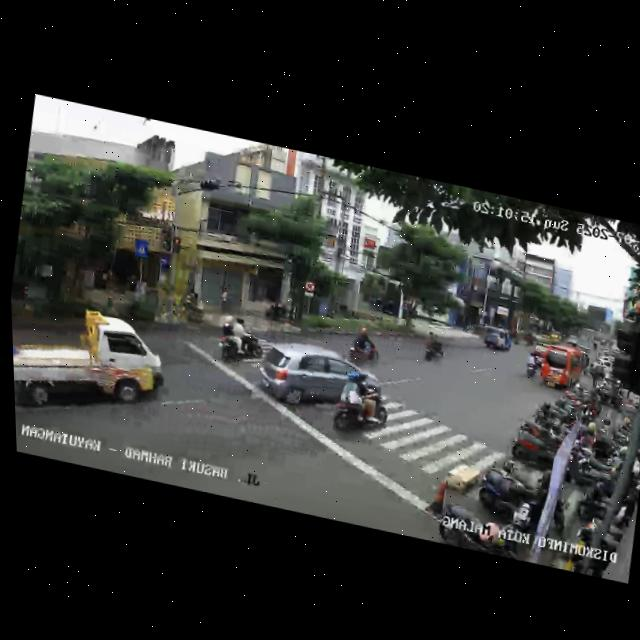car: (11, 294, 173, 442), (250, 332, 387, 428), (536, 340, 592, 397), (477, 324, 513, 355)
motorcycle: (327, 366, 395, 445), (215, 313, 268, 368), (346, 325, 383, 367), (419, 329, 447, 365), (523, 350, 540, 379)
